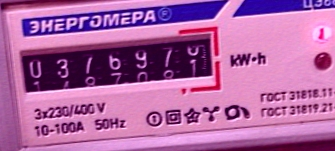0: (28, 56, 44, 79)
1: (187, 57, 201, 78)
3: (55, 56, 72, 80)
6: (106, 47, 123, 71)
7: (79, 51, 97, 75), (160, 44, 177, 68)
9: (132, 46, 150, 70)
screen: (10, 20, 228, 115)
